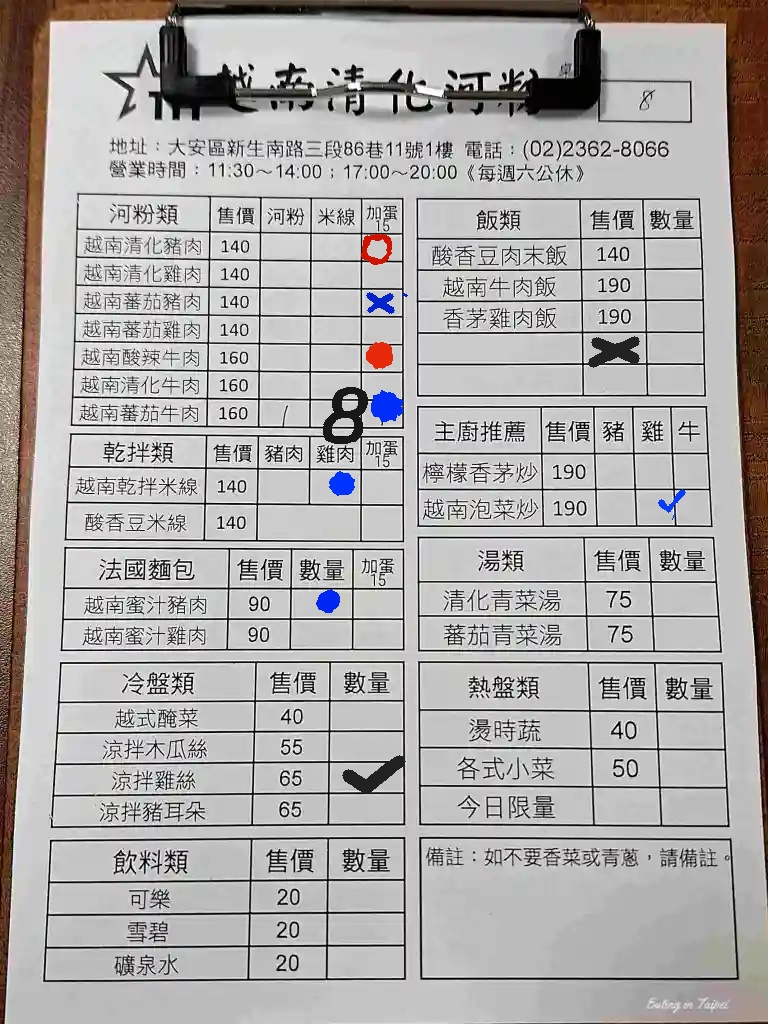marked_circle: (290, 587, 352, 617), (309, 469, 361, 502), (361, 342, 401, 372), (362, 399, 402, 429)
marked_hollow: (362, 232, 402, 262)
marked_number_8: (312, 400, 361, 428)
marked_tick: (332, 761, 401, 796), (635, 488, 675, 525)
marked_x: (585, 331, 645, 361), (363, 287, 403, 317)
